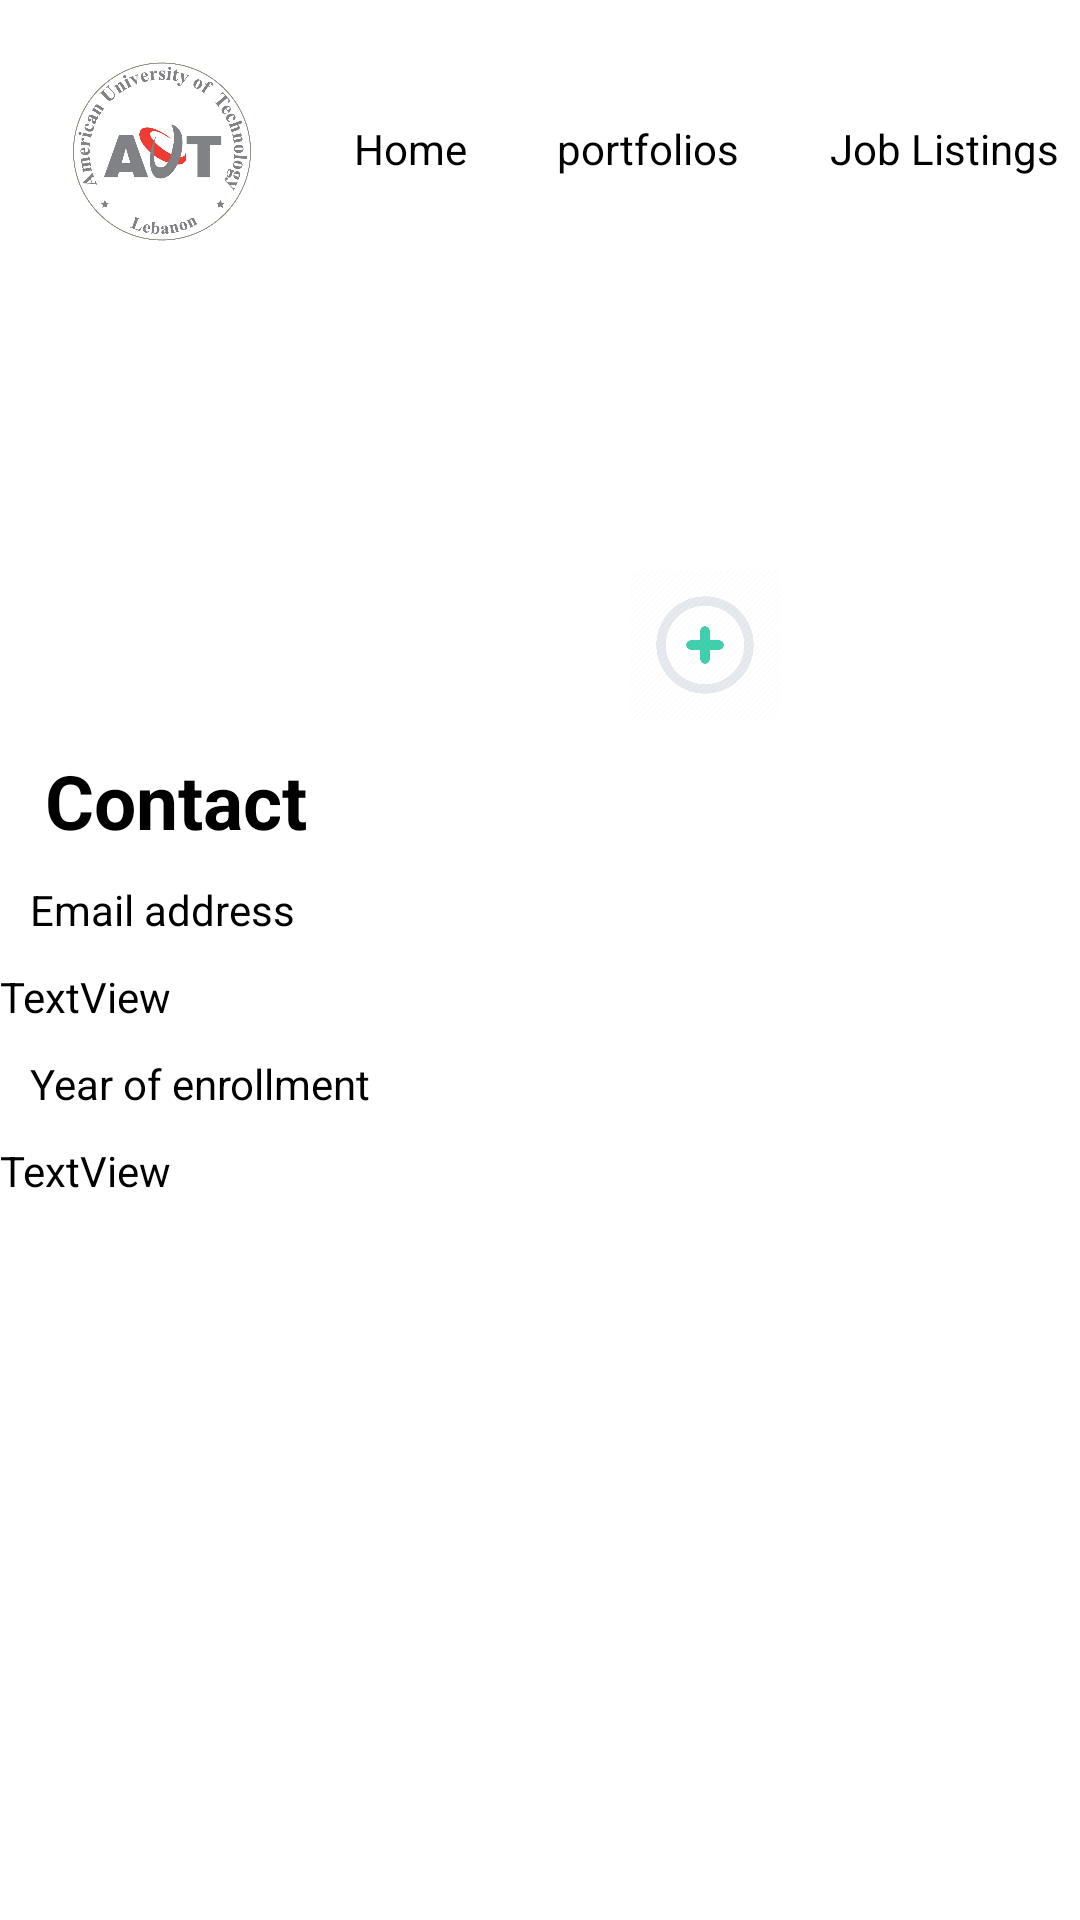

Icon bounding boxes for this 1080 x 1920 phone screenshot, format {"x1": x1, "y1": y1, "x2": x2, "y2": y2}:
roundplus: {"x1": 656, "y1": 596, "x2": 754, "y2": 694}
